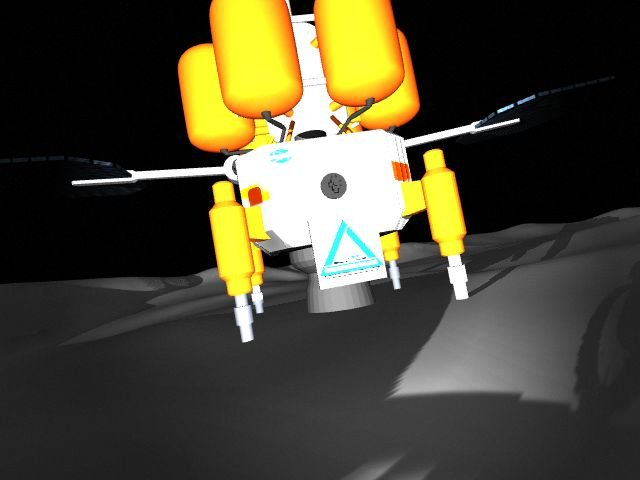basemarker: (320, 219, 385, 278)
